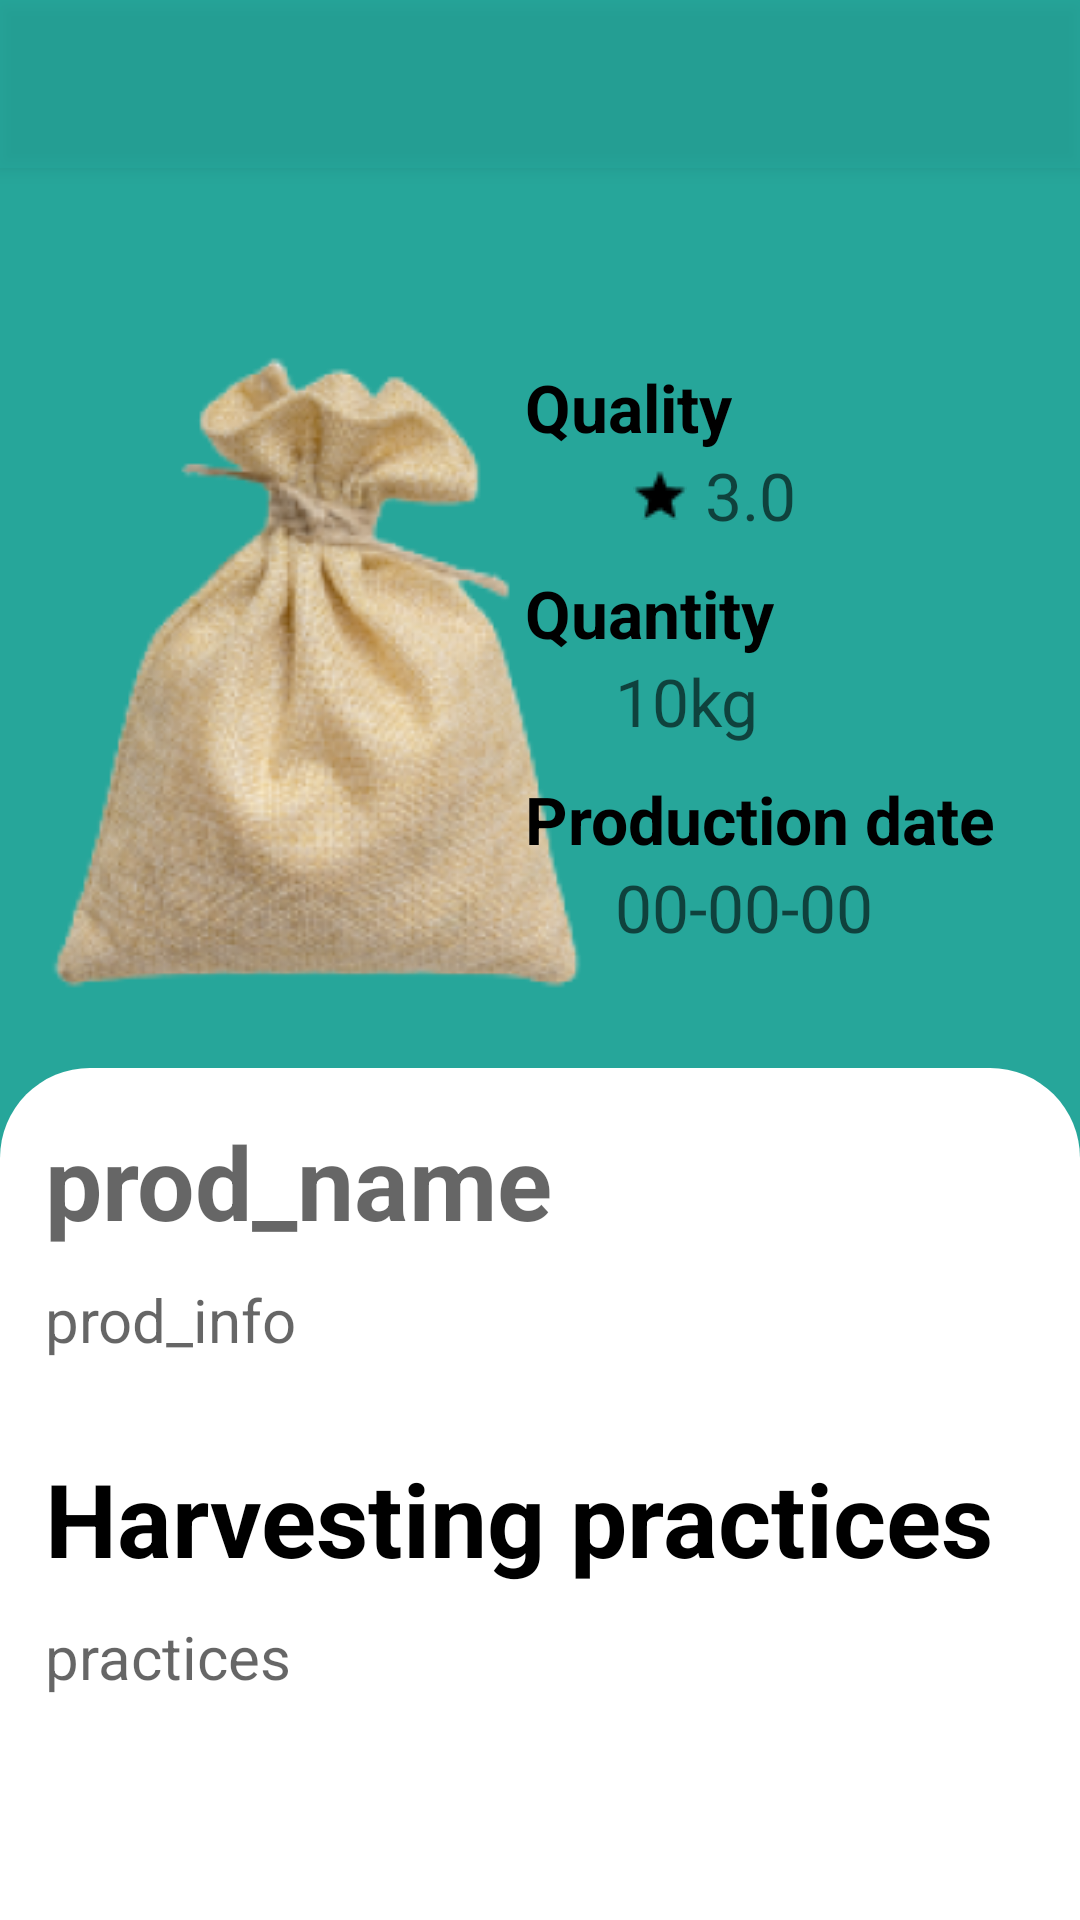

Screen size 1080 × 1920. Icon name, then its box in pixels as bbox=(x1, y1, x2, y2):
star: bbox=(635, 472, 685, 518)
